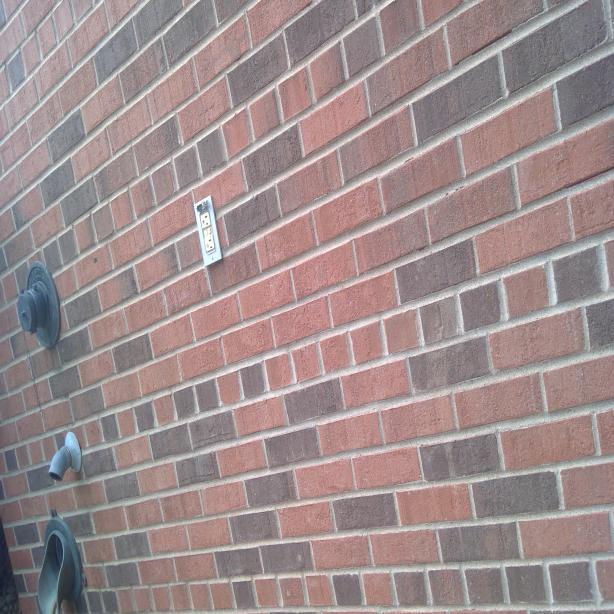typeb: (204, 236, 216, 252), (201, 212, 211, 230)
